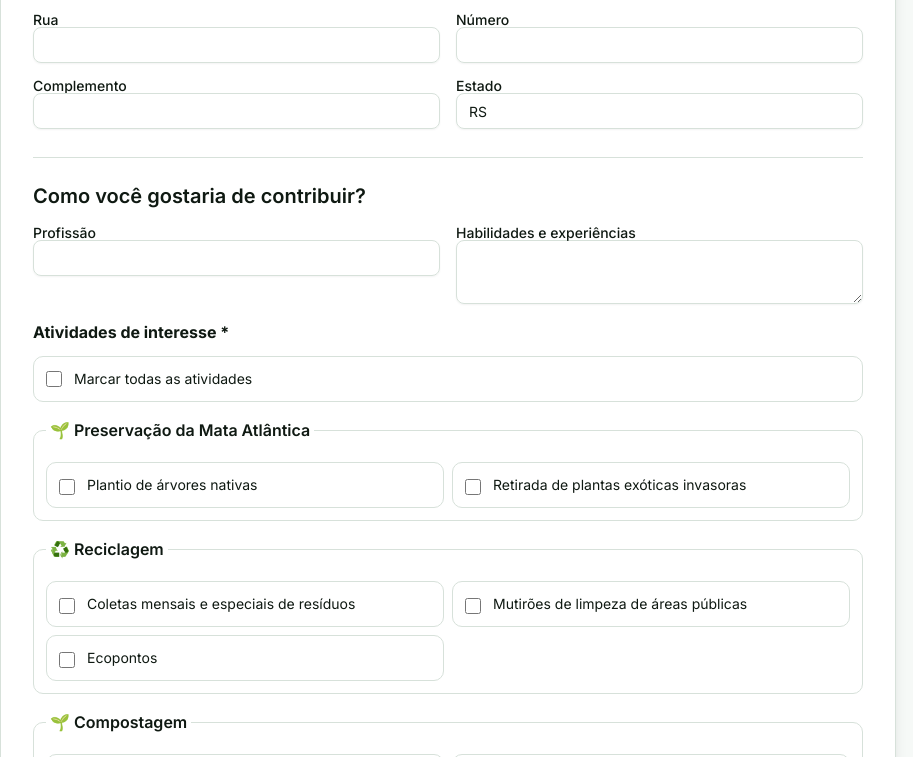
Test case: formulário público de voluntários › permite marcar e desmarcar todas as atividades
This screenshot has width=913, height=757.
(page scrolled)
Click the checkbox labelled "Marcar todas as atividades": (54, 379) [46,371,62,387]
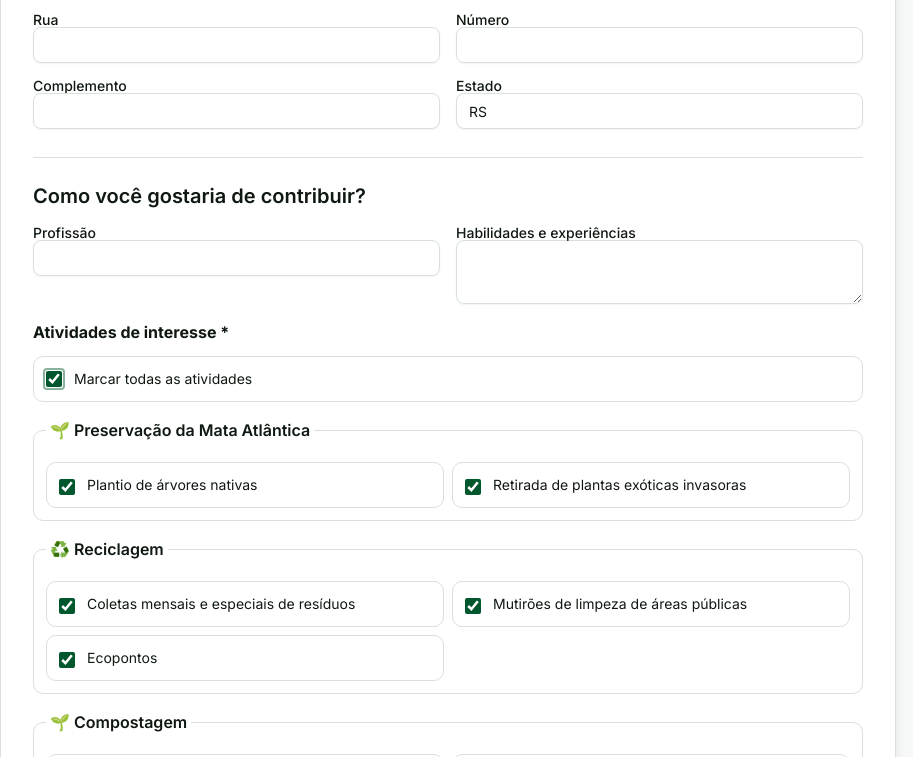
Check: the checkbox labelled "Plantio de árvores nativas" is checked, box [59,479,75,495]
Check: the checkbox labelled "Retirada de plantas exóticas invasoras" is checked, box [465,479,481,495]
Check: the checkbox labelled "Coletas mensais e especiais de resíduos" is checked, box [59,598,75,614]
Click the checkbox labelled "Marcar todas as atividades": (54, 379) [46,371,62,387]
(page scrolled)
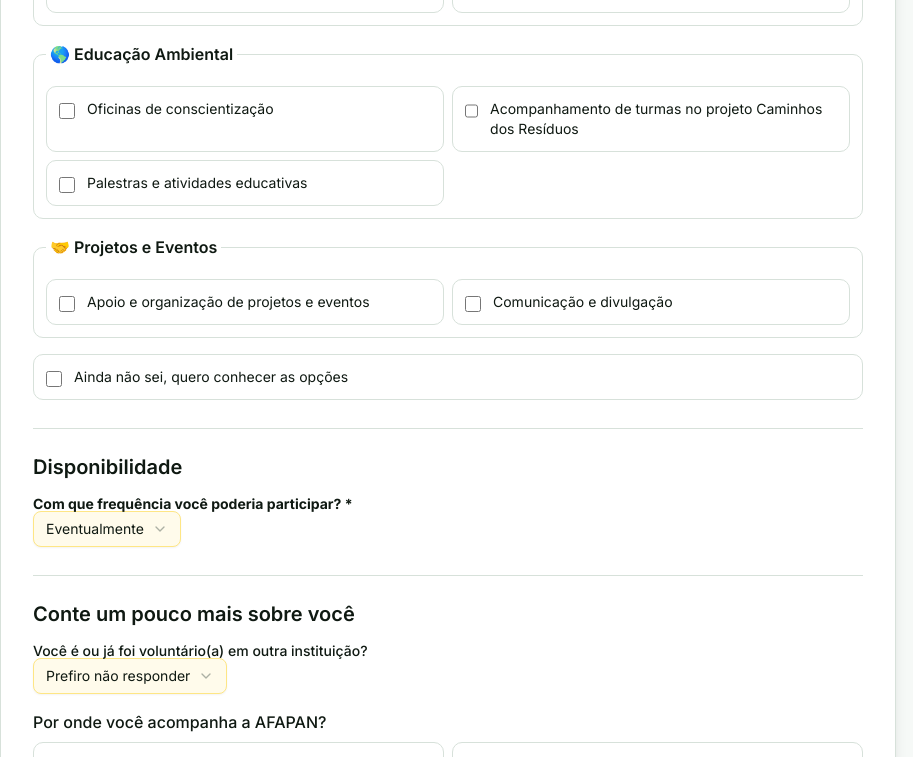
Check: the checkbox labelled "Oficinas de conscientização" is not checked, box [59,103,75,119]
Check: the checkbox labelled "Acompanhamento de turmas no projeto Caminhos dos Resíduos" is not checked, box [465,103,478,119]
Check: the checkbox labelled "Palestras e atividades educativas" is not checked, box [59,177,75,193]
